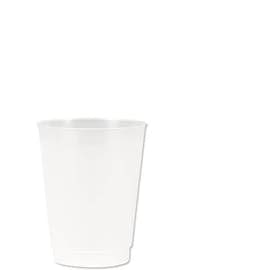plastic_glass: (32, 114, 163, 270)
